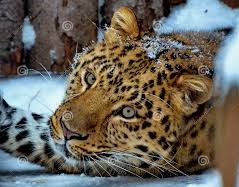amur_leopard: (41, 3, 218, 178)
